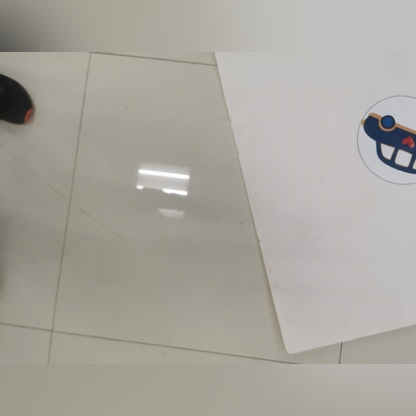car: (349, 85, 416, 188)
